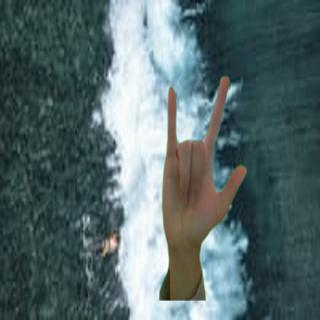ILY: (157, 72, 251, 254)
